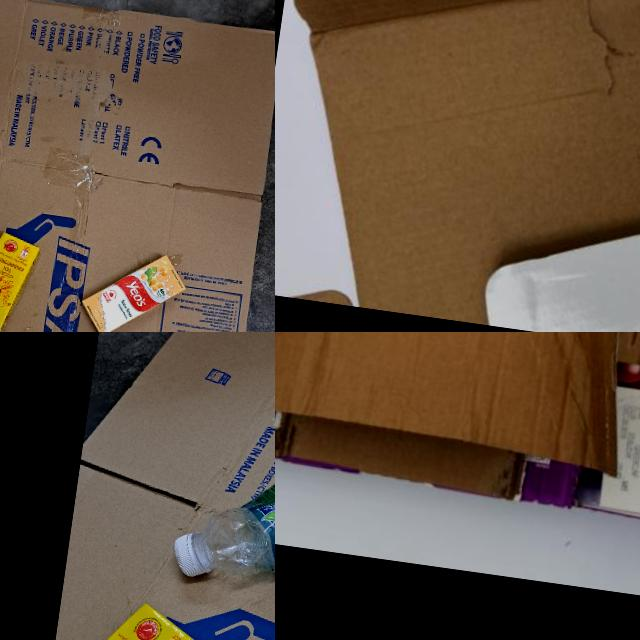caixinha: (31, 590, 216, 640)
garrafa plástica: (190, 421, 275, 587)
papelão: (275, 0, 640, 332), (0, 0, 275, 332), (28, 332, 275, 640), (275, 332, 640, 537)
tampa plástica: (169, 532, 208, 578)
